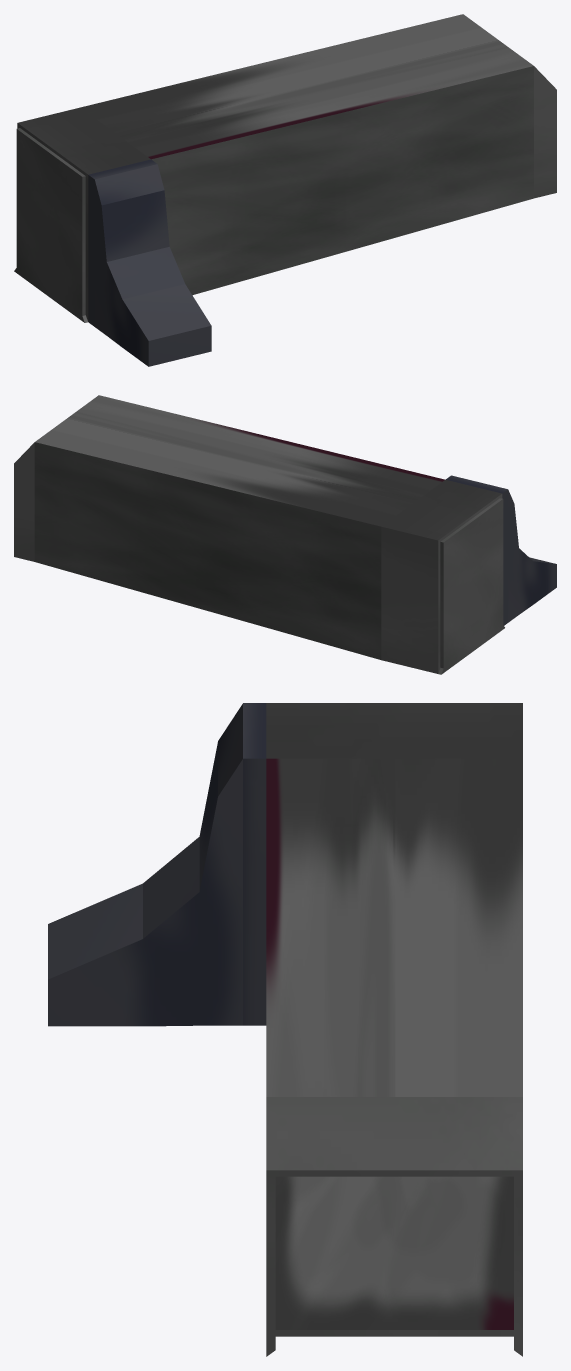
File: crate.fbx
3 renders of one model, top to bottom at view 1: azimuth 30°, elevation 25°; view 2: azimuth 150°, elevation 25°; view 3: azimuth 270°, elevation 25°, orthographic. The views are drawn at different scales.
Visible parts, largest first — view 1: crate; view 2: crate; view 3: crate.
Part boxes in pixels (<box>): crate: <box>14,14,556,366</box>; crate: <box>14,395,556,674</box>; crate: <box>48,703,522,1356</box>.
Size of the model in its own units: 4781 by 1432 by 2302.
1 material, 1 textured.
